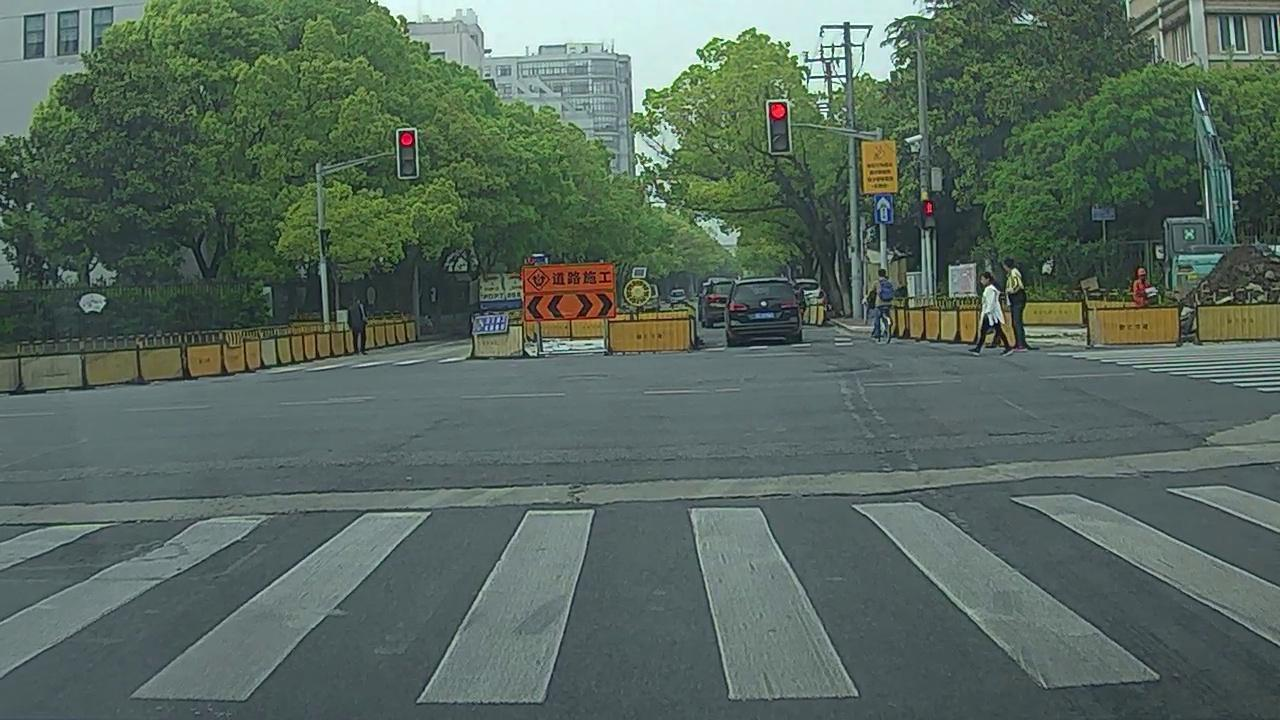traffic_light: (768, 101, 789, 152), (398, 130, 416, 177)
